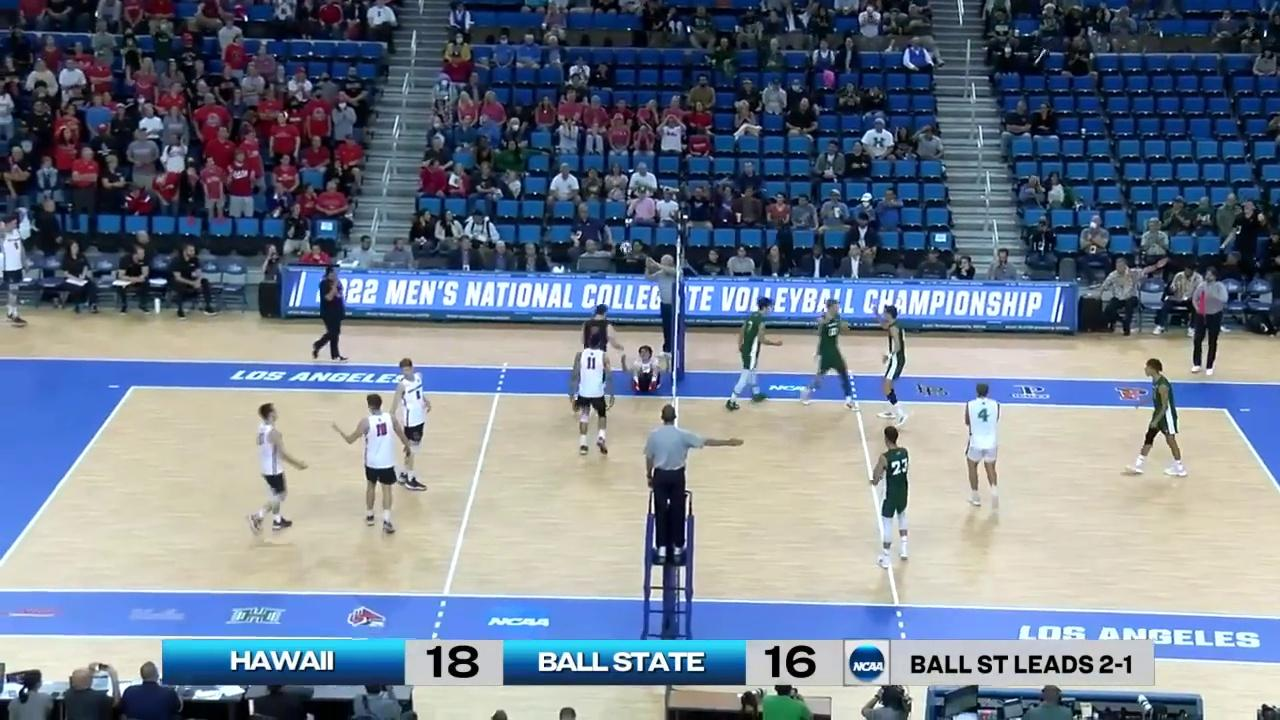player: (247, 402, 304, 532), (1125, 361, 1189, 476), (353, 395, 406, 532), (805, 300, 864, 407), (870, 427, 911, 569), (569, 332, 614, 457), (728, 298, 776, 409), (963, 385, 1003, 513), (394, 358, 433, 486), (575, 306, 618, 417), (874, 304, 909, 423), (627, 340, 664, 398)
refree: (645, 405, 700, 560), (651, 254, 685, 357), (1192, 270, 1224, 376)
